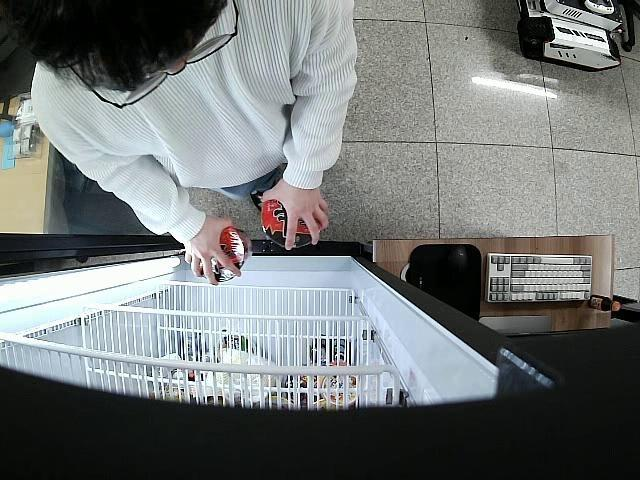01_ShinRamen_L: (262, 203, 322, 250), (202, 229, 250, 286)
